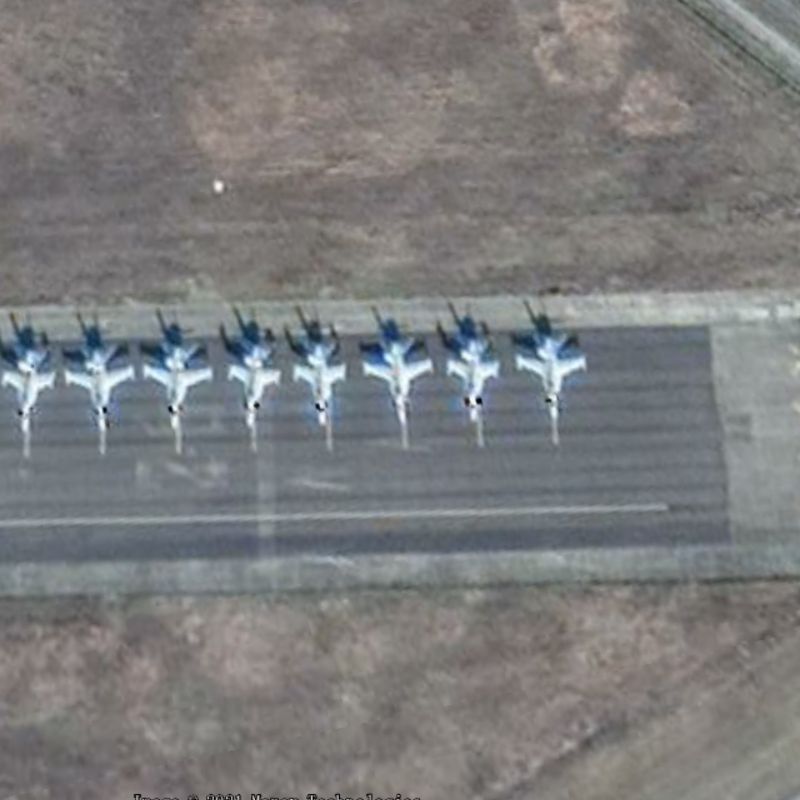A16: (511, 326, 590, 425), (359, 328, 434, 426), (59, 343, 140, 433), (137, 339, 214, 432), (221, 331, 286, 430), (438, 329, 503, 426), (1, 340, 60, 436), (287, 339, 350, 428)
